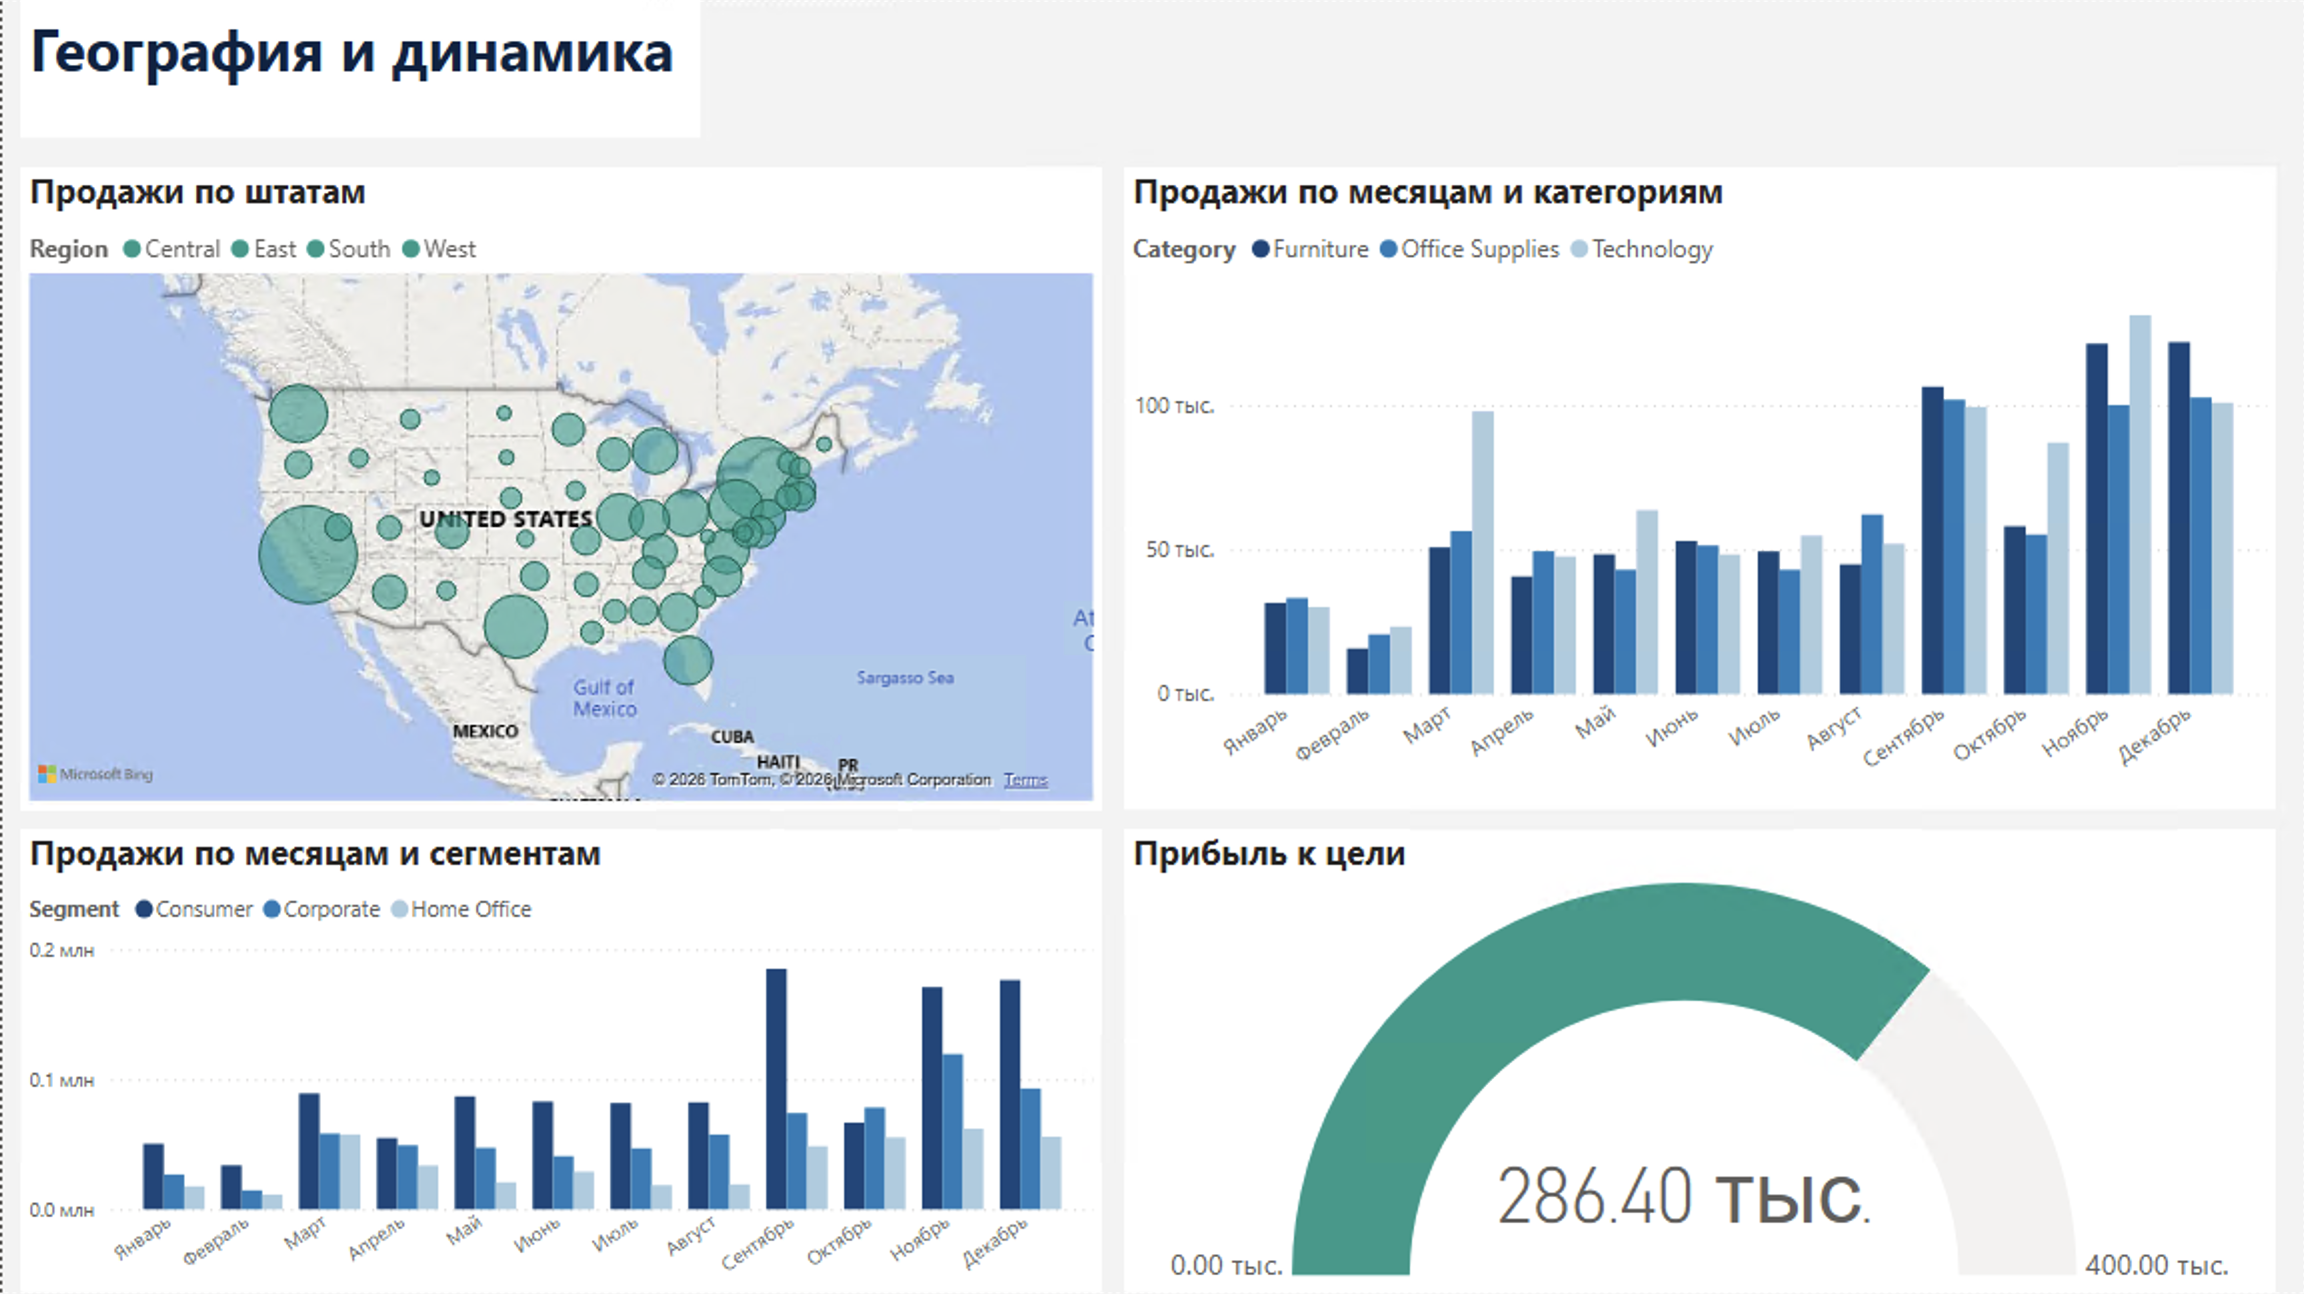

The dashboard page shown, as its layout file describes it:
{"tool":"powerbi","page":{"name":"География и динамика","canvas":[1280,720],"ordinal":2},"visuals":[{"type":"map","title":"Продажи по штатам","fields":{"Category":["Orders.State"],"Size":["Sum(Orders.Sales)"],"Series":["Orders.Region"]},"box":[10.4,93.5,601.3,357.1],"z":0},{"type":"clusteredColumnChart","title":"Продажи по месяцам и сегментам","fields":{"Category":["Orders.Order Date.Изменение.Иерархия дат.Месяц"],"Y":["Orders.ОбщсуммПродаж"],"Series":["Orders.Segment"]},"box":[10.4,461,601.3,258.4],"z":1000},{"type":"clusteredColumnChart","title":"Продажи по месяцам и категориям","fields":{"Category":["Orders.Order Date.Изменение.Иерархия дат.Месяц"],"Y":["Orders.ОбщсуммПродаж"],"Series":["Orders.Category"]},"box":[623.4,93.5,640.3,357.1],"z":2000},{"type":"textbox","box":[10.4,0,377.9,76.6],"z":2001},{"type":"gauge","title":"Прибыль к цели","fields":{"Y":["Sum(Orders.Profit)"],"TargetValue":["Sum(Orders.Sales)"]},"box":[623,461,640,258],"z":2002}]}

Visuals, with their boxes in screenshot pixels (x1, y1, x2, y2), scaled from the page's 1280x720 canvas onto the 2304x1294 screenshot:
"Продажи по штатам" map: rect(19, 168, 1101, 810)
"Продажи по месяцам и сегментам" clusteredColumnChart: rect(19, 829, 1101, 1293)
"Продажи по месяцам и категориям" clusteredColumnChart: rect(1122, 168, 2275, 810)
textbox: rect(19, 0, 699, 138)
"Прибыль к цели" gauge: rect(1121, 829, 2273, 1292)
